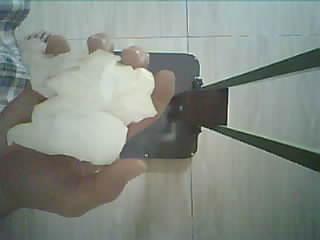paper: (9, 39, 157, 164)
